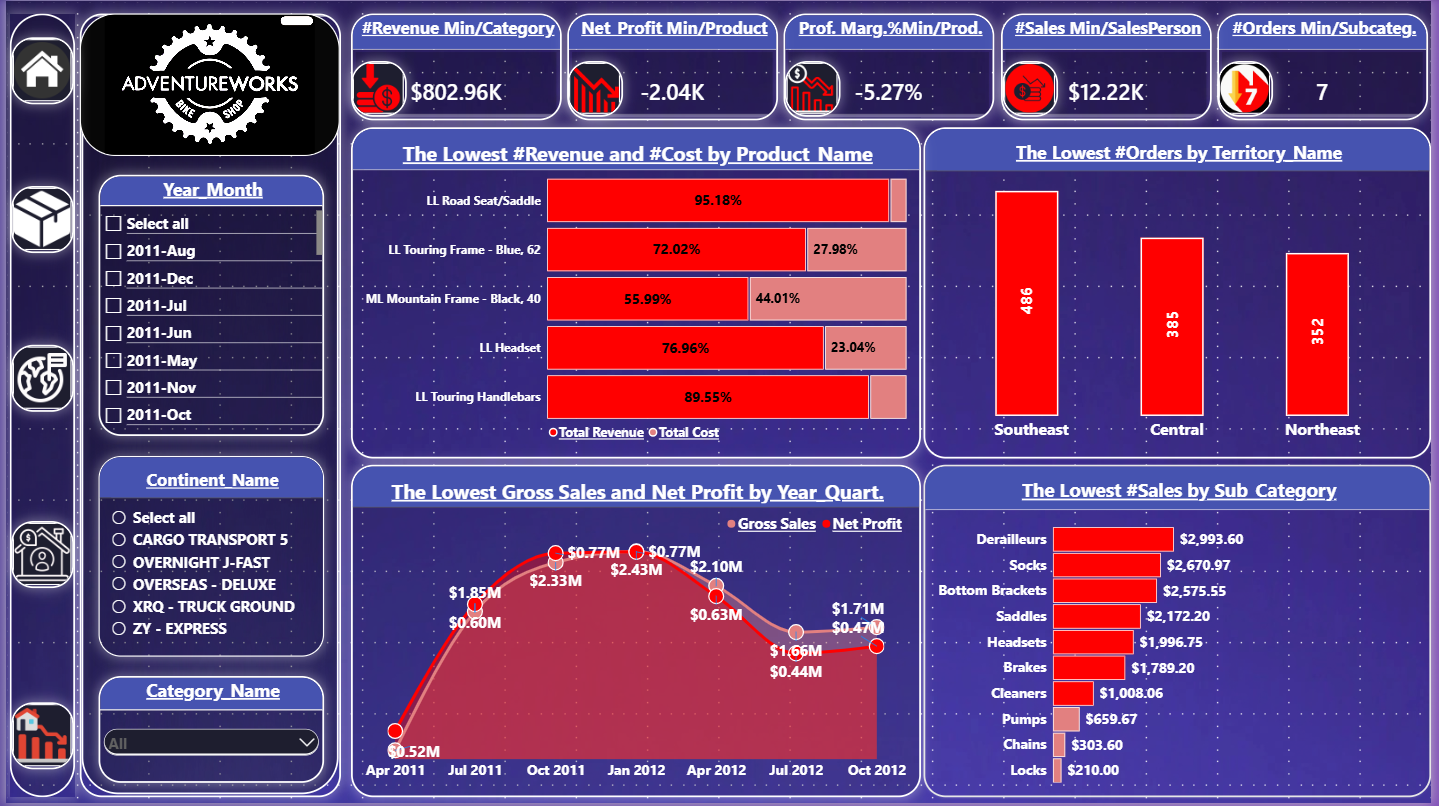

This screenshot's page, from the dashboard's own definition file:
{"tool":"powerbi","page":{"name":"Losses_Dashboard","canvas":[1920,1080],"ordinal":4},"visuals":[{"type":"cardVisual","fields":{"Data":["Measures_Table.Total Tax"]},"box":[3389.7,146.7,449.4,209.1],"z":0},{"type":"cardVisual","title":"#Revenue Min/Category","fields":{"Data":["Measures_Table.Total Revenue min per CategoryID"]},"box":[464,16,284,144],"z":1000},{"type":"cardVisual","title":"Prof. Marg.%Min/Prod.","fields":{"Data":["Measures_Table.Profit Margin % min per Product_Name"]},"box":[1048,16,284,144],"z":2000},{"type":"cardVisual","title":"#Orders Min/Subcateg.","fields":{"Data":["Measures_Table.Total Orders min per Product_Name"]},"box":[1632,16,284,144],"z":3000},{"type":"cardVisual","title":"#Sales Min/SalesPerson","fields":{"Data":["Measures_Table.Total Sales min per SalesPersonID"]},"box":[1340,16,284,144],"z":4000},{"type":"cardVisual","title":"Net_Profit Min/Product","fields":{"Data":["Measures_Table.Net Profit min per ProductID"]},"box":[756,16,284,144],"z":5000},{"type":"image","box":[100,16,352,1056],"z":6000},{"type":"image","box":[100,16,350,192],"z":7000},{"type":"image","box":[5,16,88,1056],"z":8000},{"type":"slicer","title":"Year_Month","fields":{"Values":["Dim_Date.Year Month"]},"box":[125,234.7,304,352],"z":9000},{"type":"listSlicer","title":"Continent_Name","fields":{"Values":["Dim_ShipMethod.ShipMethod_Name"]},"box":[125,613.3,304,270],"z":10000},{"type":"slicer","title":"Category_Name","fields":{"Values":["Dim_Products.Category_Name"]},"box":[125,910,304,144],"z":11000},{"type":"columnChart","title":"The Lowest #Orders by Territory_Name","fields":{"Category":["Dim_SalesTerritory.Territory_Name"],"Y":["Measures_Table.Total Orders"]},"box":[1236,170,684,446],"z":12000},{"type":"hundredPercentStackedBarChart","title":"The Lowest #Revenue and #Cost by Product_Name","fields":{"Category":["Dim_Products.Product_Name"],"Y":["Measures_Table.Total Revenue","Measures_Table.Total Cost"]},"box":[464,170,768,446],"z":13000},{"type":"areaChart","title":"The Lowest Gross Sales and Net Profit by Year_Quart.","fields":{"Category":["Dim_Date.Date.Variation.Date Hierarchy.Year","Dim_Date.Date.Variation.Date Hierarchy.Quarter"],"Y":["Measures_Table.Gross Sales"],"Y2":["Measures_Table.Net Profit"]},"box":[464,624,768,448],"z":14000},{"type":"clusteredBarChart","title":"The Lowest #Sales by Sub_Category","fields":{"Category":["Dim_Products.SubCategory_Name"],"Y":["Measures_Table.Total Sales"]},"box":[1236,624,684,448],"z":15000},{"type":"image","box":[7,48,85,90],"z":16000},{"type":"image","box":[7,250,85,90],"z":17000},{"type":"image","box":[7,463,85,90],"z":18000},{"type":"image","box":[7,700,85,90],"z":19000},{"type":"image","box":[7,944,85,90],"z":20000},{"type":"image","box":[464,80,75,75],"z":21000},{"type":"image","box":[756,80,75,75],"z":22000},{"type":"image","box":[1050,80,75,75],"z":23000},{"type":"image","box":[1342,80,75,75],"z":24000},{"type":"image","box":[1632,80,75,75],"z":25000}]}

Visuals, with their boxes in screenshot pixels (x1, y1, x2, y2), scaled from the page's 1920x1080 canvas onto the 1439x806 screenshot:
"#Revenue Min/Category" cardVisual: 348, 12, 561, 119
"Prof. Marg.%Min/Prod." cardVisual: 785, 12, 998, 119
"#Orders Min/Subcateg." cardVisual: 1223, 12, 1436, 119
"#Sales Min/SalesPerson" cardVisual: 1004, 12, 1217, 119
"Net_Profit Min/Product" cardVisual: 567, 12, 779, 119
image: 75, 12, 339, 800
image: 75, 12, 337, 155
image: 4, 12, 70, 800
"Year_Month" slicer: 94, 175, 322, 438
"Continent_Name" listSlicer: 94, 458, 322, 659
"Category_Name" slicer: 94, 679, 322, 787
"The Lowest #Orders by Territory_Name" columnChart: 926, 127, 1438, 460
"The Lowest #Revenue and #Cost by Product_Name" hundredPercentStackedBarChart: 348, 127, 923, 460
"The Lowest Gross Sales and Net Profit by Year_Quart." areaChart: 348, 466, 923, 800
"The Lowest #Sales by Sub_Category" clusteredBarChart: 926, 466, 1438, 800
image: 5, 36, 69, 103
image: 5, 187, 69, 254
image: 5, 346, 69, 413
image: 5, 522, 69, 590
image: 5, 705, 69, 772
image: 348, 60, 404, 116
image: 567, 60, 623, 116
image: 787, 60, 843, 116
image: 1006, 60, 1062, 116
image: 1223, 60, 1279, 116
